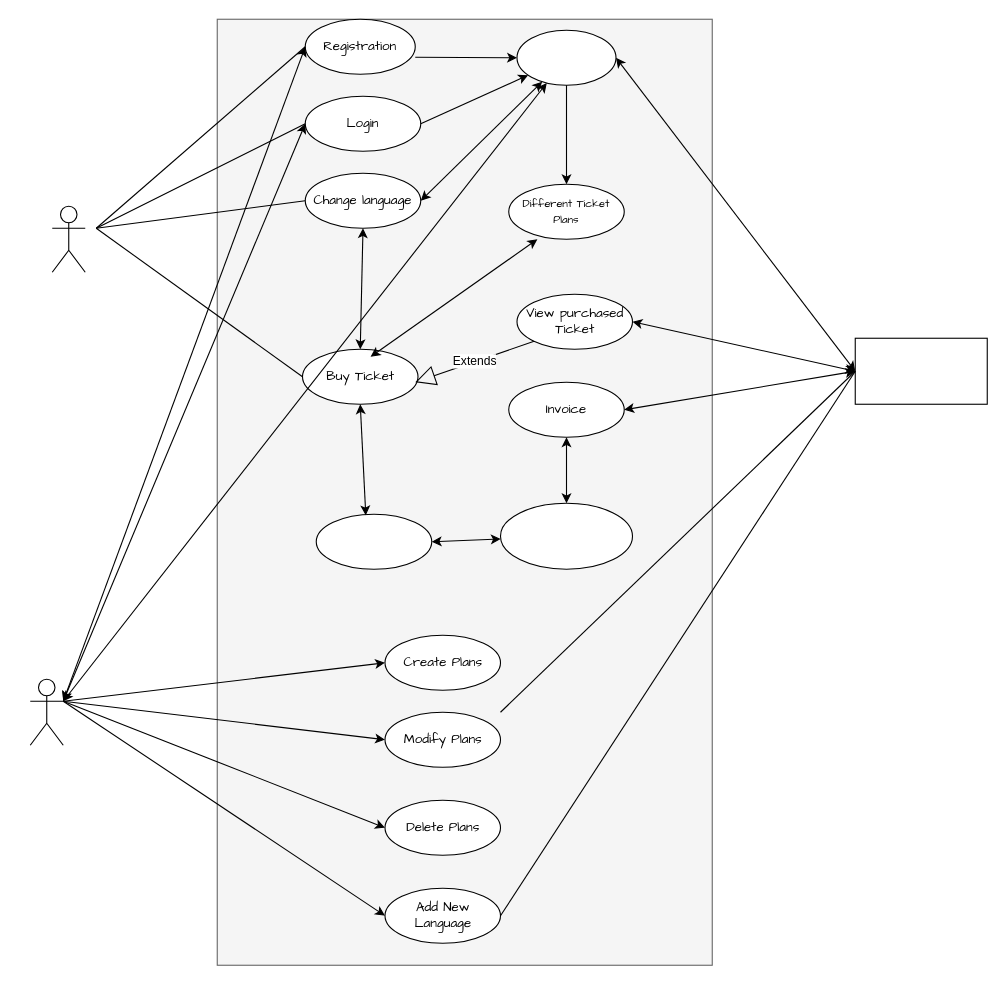
Image size: 1007x985. Some labels were removed from this diagram. Here are the shapes that lost their labels. From the top down, the centre of each, then its label:
(x=566, y=57): Opus authentication
(x=68, y=238): Customer
(x=920, y=370): Database
(x=373, y=541): Payment
(x=565, y=535): Payment Gateway
(x=46, y=711): Administrator
